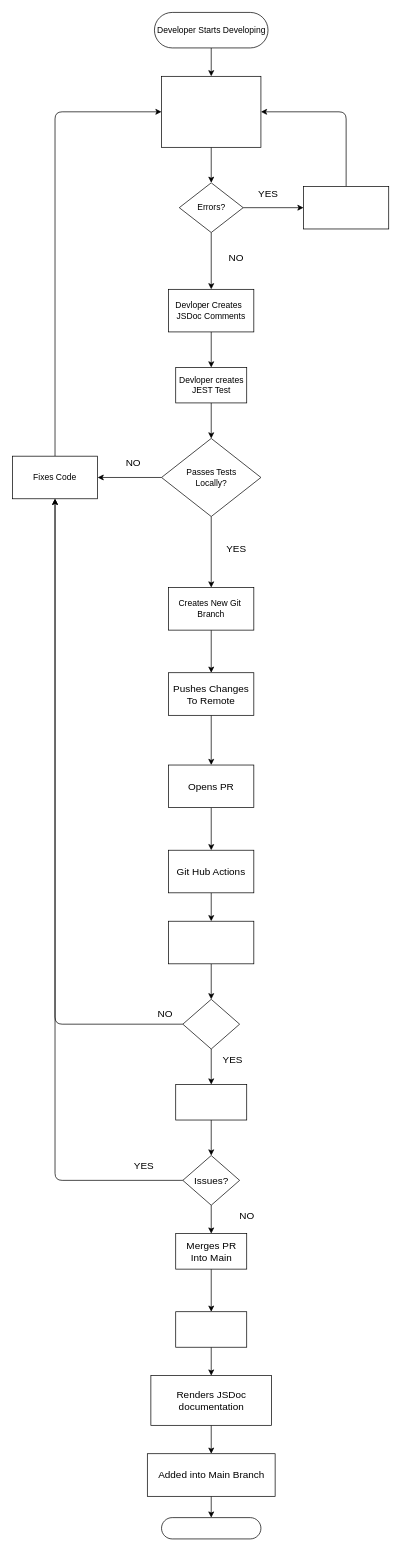
The diagram is 401 pixels wide and 1551 high, and some of its shapes have lost their labels. The shapes that lost their labels are listed below. From the top down, each one's centre as x and y in pixels, then its label:
the point at 211,111: ESLINT Static Code Analysis
the point at 346,207: Devloper Fixes Errors
the point at 211,942: Test Code Using Jest Unit Test
the point at 211,1024: Passes?
the point at 211,1102: Human Review
the point at 211,1329: Git Hub Action
the point at 211,1528: Pipeline Finishes
